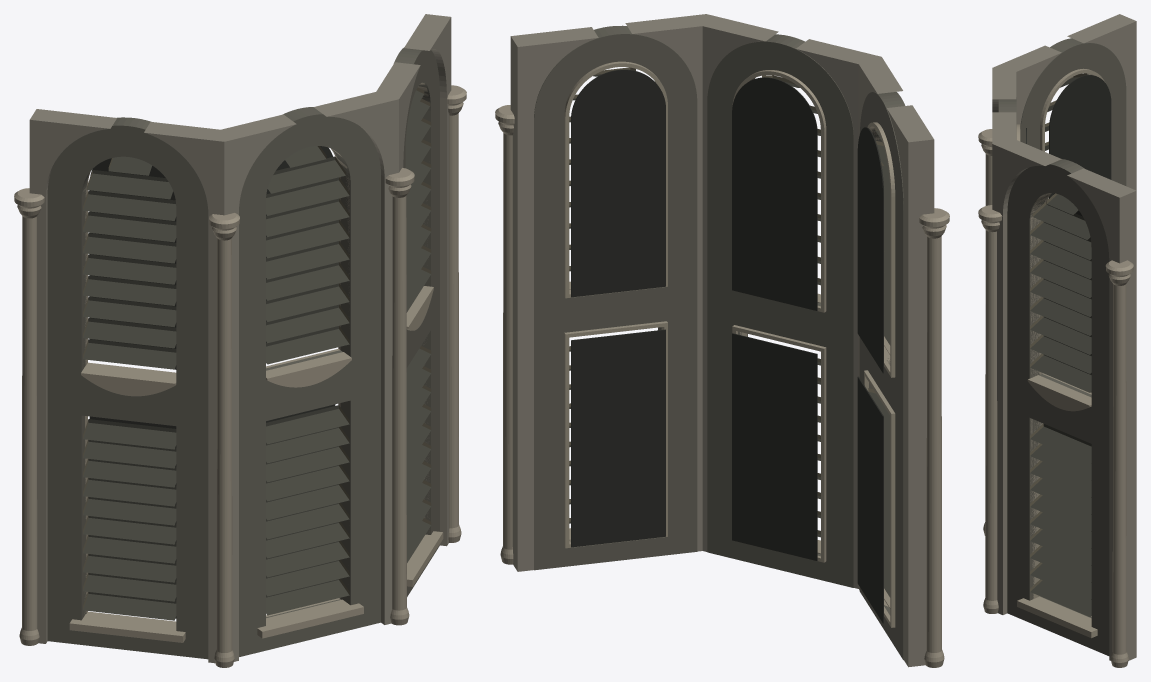
File: yangpu-sacred-heart-octagonal-belfry-louvres-raw.glb
3 views of the same model, side by side, from view 1: azimuth 30°, elevation 25°; view 2: azimuth 150°, elevation 25°; view 3: azimuth 270°, elevation 25° (orthographic). The views are drawn at different scales.
Parts seen in each view (by area): view 1: 圣心教堂八角钟楼三面双层百叶窗; view 2: 圣心教堂八角钟楼三面双层百叶窗; view 3: 圣心教堂八角钟楼三面双层百叶窗.
Boxes of the visible parts, x1,y1,x2,y2 form: 圣心教堂八角钟楼三面双层百叶窗: (14, 14, 466, 667); 圣心教堂八角钟楼三面双层百叶窗: (495, 14, 949, 667); 圣心教堂八角钟楼三面双层百叶窗: (978, 14, 1136, 667).
Bounding box in the file's own units: 4.47 × 4.99 × 1.53.
